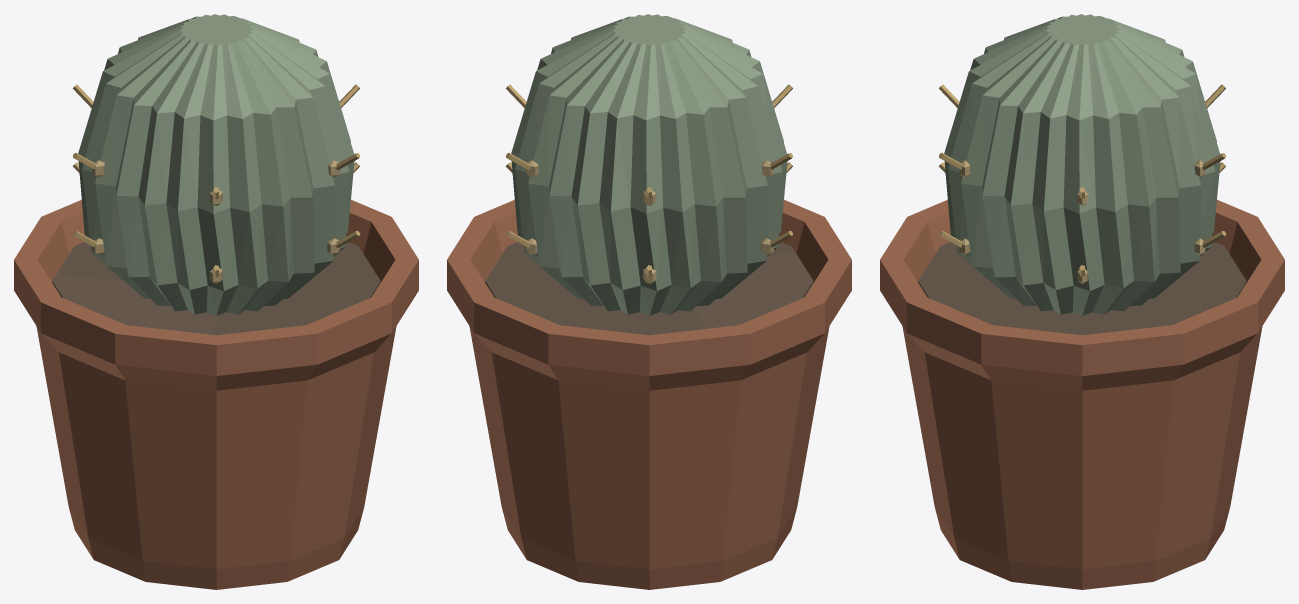
File: new-multicostatus.glb
3 renders of one model, left to right at view 1: azimuth 30°, elevation 25°; view 2: azimuth 150°, elevation 25°; view 3: azimuth 270°, elevation 25°, orthographic.
Parts seen in each view (by area): view 1: new-multicostatus/review-terra-vessel, new-multicostatus/ribbed-stem-001, new-multicostatus/review-rooted-soil; view 2: new-multicostatus/review-terra-vessel, new-multicostatus/ribbed-stem-001, new-multicostatus/review-rooted-soil; view 3: new-multicostatus/review-terra-vessel, new-multicostatus/ribbed-stem-001, new-multicostatus/review-rooted-soil.
Boxes of the visible parts, left/top/right/bottom form: new-multicostatus/review-terra-vessel: left=14, top=199, right=418, bottom=589; new-multicostatus/ribbed-stem-001: left=78, top=14, right=354, bottom=315; new-multicostatus/review-rooted-soil: left=52, top=242, right=380, bottom=335; new-multicostatus/review-terra-vessel: left=447, top=199, right=851, bottom=589; new-multicostatus/ribbed-stem-001: left=511, top=14, right=787, bottom=315; new-multicostatus/review-rooted-soil: left=485, top=242, right=813, bottom=335; new-multicostatus/review-terra-vessel: left=880, top=199, right=1284, bottom=589; new-multicostatus/ribbed-stem-001: left=944, top=14, right=1220, bottom=315; new-multicostatus/review-rooted-soil: left=918, top=242, right=1246, bottom=335.
Bounding box in the file's own units: 0.19 × 0.259 × 0.19.
Materials: 5 (5 with a texture image).
